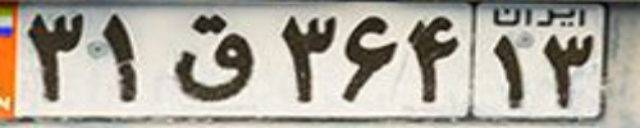1: (99, 13, 137, 102), (489, 33, 528, 108)
3: (26, 12, 85, 102), (282, 14, 335, 102), (543, 33, 597, 108)
4: (407, 15, 461, 104)
6: (342, 14, 397, 102)
ghaf: (167, 13, 254, 103)
